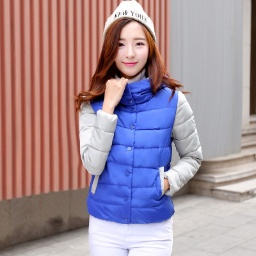face: (77, 13, 189, 100)
